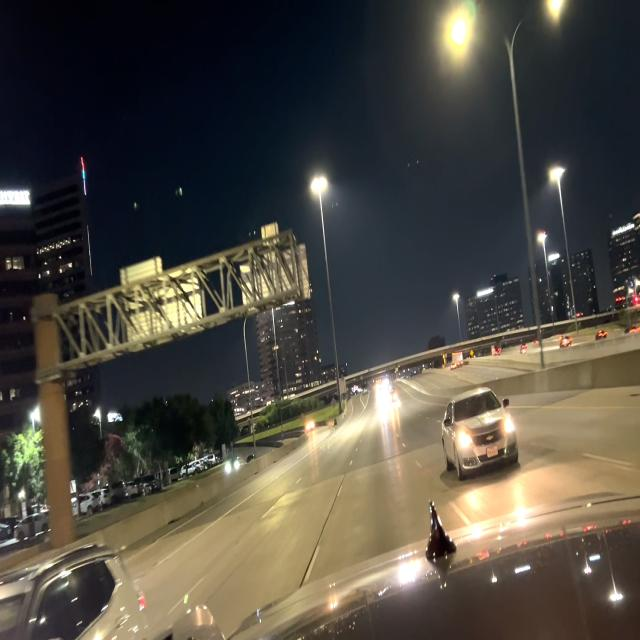back-of-sign: (120, 254, 204, 351), (239, 223, 312, 312)
